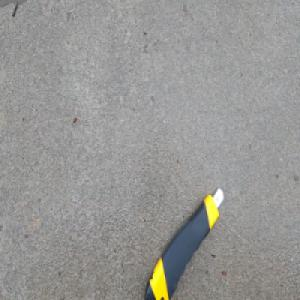Cutter: (142, 185, 224, 300)
